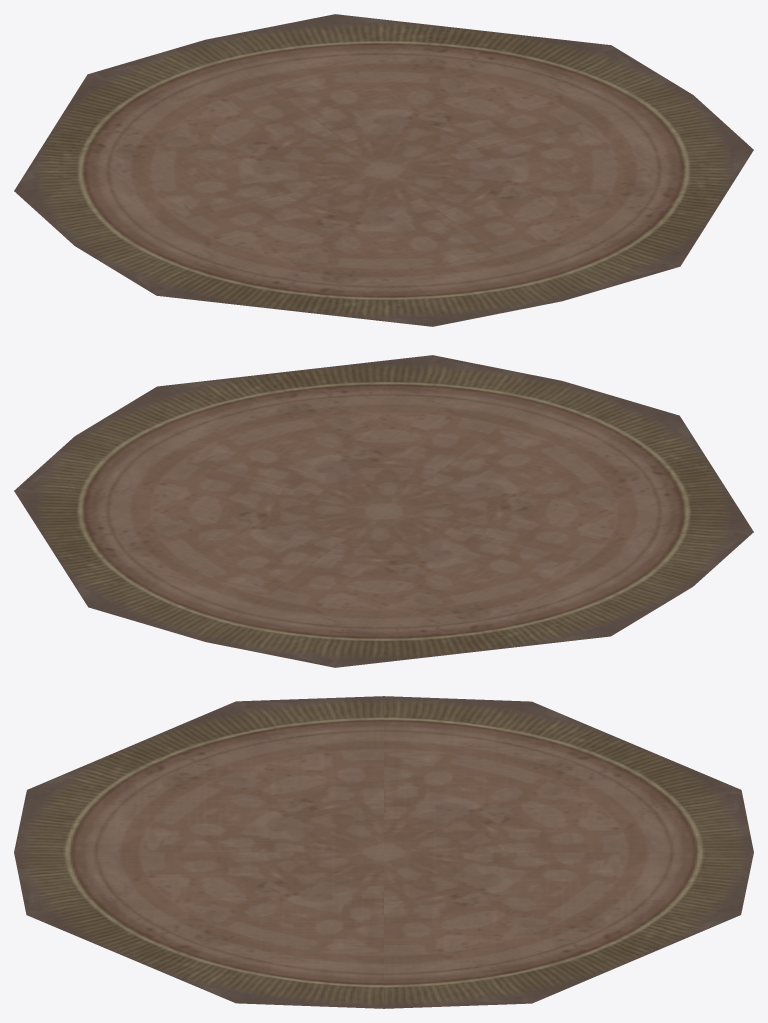
File: Carpet_round2.fbx
3 renders of one model, top to bottom at view 1: azimuth 30°, elevation 25°; view 2: azimuth 150°, elevation 25°; view 3: azimuth 270°, elevation 25°, orthographic. The views are drawn at different scales.
Visible parts, largest first — view 1: Carpet_round2; view 2: Carpet_round2; view 3: Carpet_round2.
Part boxes in pixels (box(x1,y1,x2,y2)): Carpet_round2: box(14, 14, 753, 326); Carpet_round2: box(14, 355, 753, 667); Carpet_round2: box(14, 696, 753, 1008).
Bounding box in the file's own units: 11.38 × 0 × 11.38.
